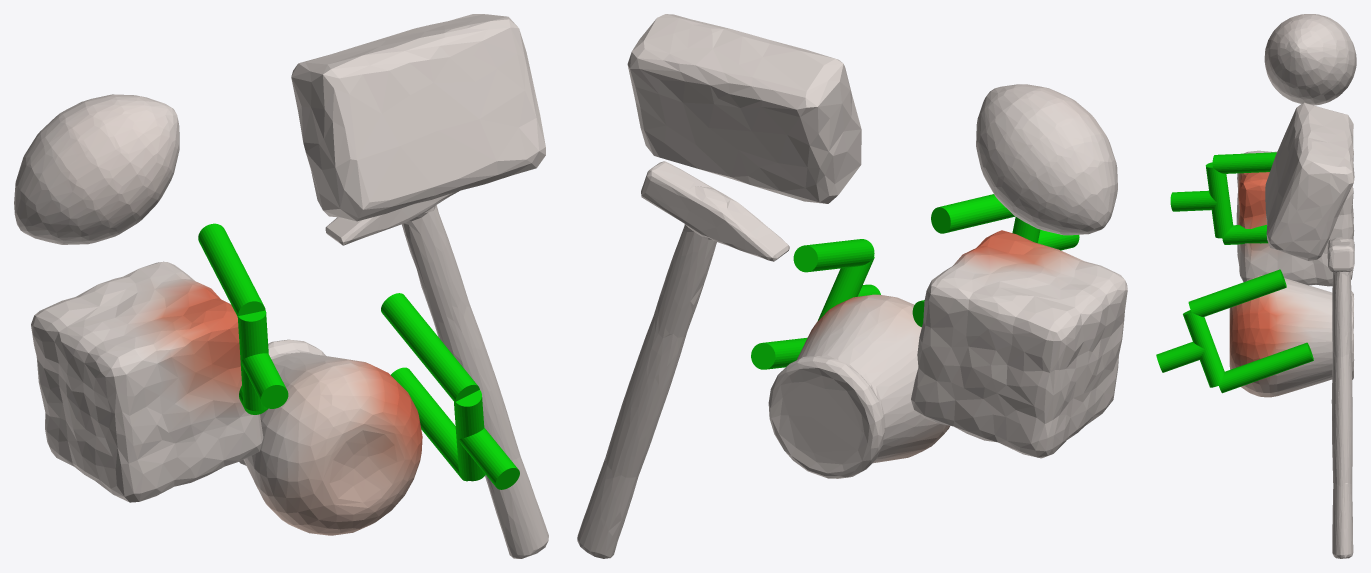
Rendered from round_000_trial_000.obj.
3 views of the same model, side by side, from view 1: azimuth 30°, elevation 25°; view 2: azimuth 150°, elevation 25°; view 3: azimuth 270°, elevation 25° (orthographic). The views are drawn at different scales.
Visible parts, largest first — view 1: geometry_0, geometry_1, geometry_2; view 2: geometry_0, geometry_1, geometry_2; view 3: geometry_0, geometry_1, geometry_2.
Boxes of the visible parts, x1,y1,x2,y2 form: geometry_0: (14,14,548,558); geometry_1: (381,293,519,489); geometry_2: (198,223,288,414); geometry_0: (577,14,1127,558); geometry_1: (751,239,880,369); geometry_2: (912,194,1079,327); geometry_0: (1229,14,1356,558); geometry_1: (1156,269,1313,393); geometry_2: (1170,152,1276,244).
Size of the model in its own units: 0.2201 by 0.2236 by 0.1027.
